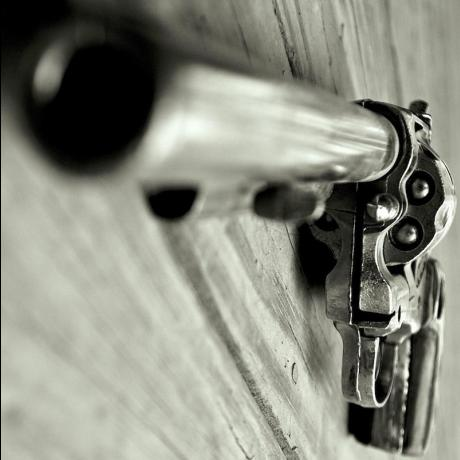weapon: (4, 22, 444, 454)
